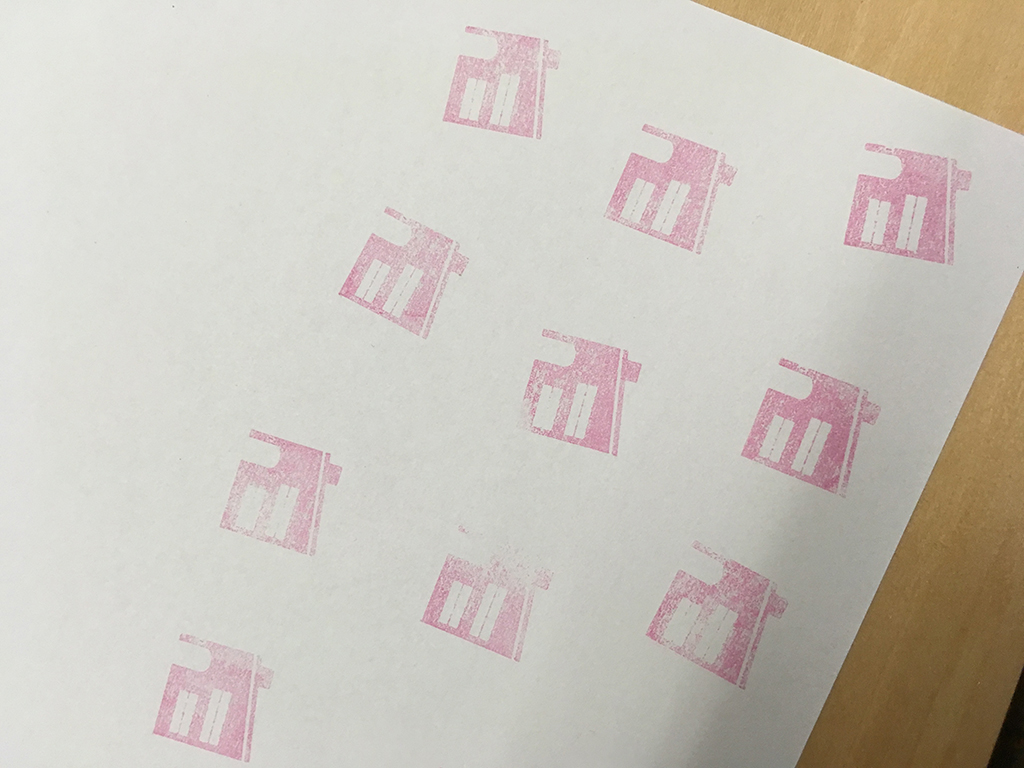house: (634, 525, 793, 702), (733, 340, 889, 506), (411, 511, 568, 672), (328, 192, 480, 354), (503, 312, 654, 472), (827, 134, 985, 281), (597, 109, 746, 262), (212, 419, 353, 567), (147, 624, 277, 768), (433, 15, 575, 146)
